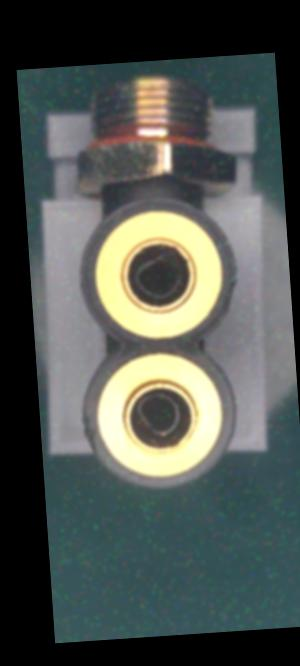bump: (71, 408, 100, 453), (215, 277, 243, 313)
off-centered: (128, 242, 188, 302), (128, 389, 184, 440)
